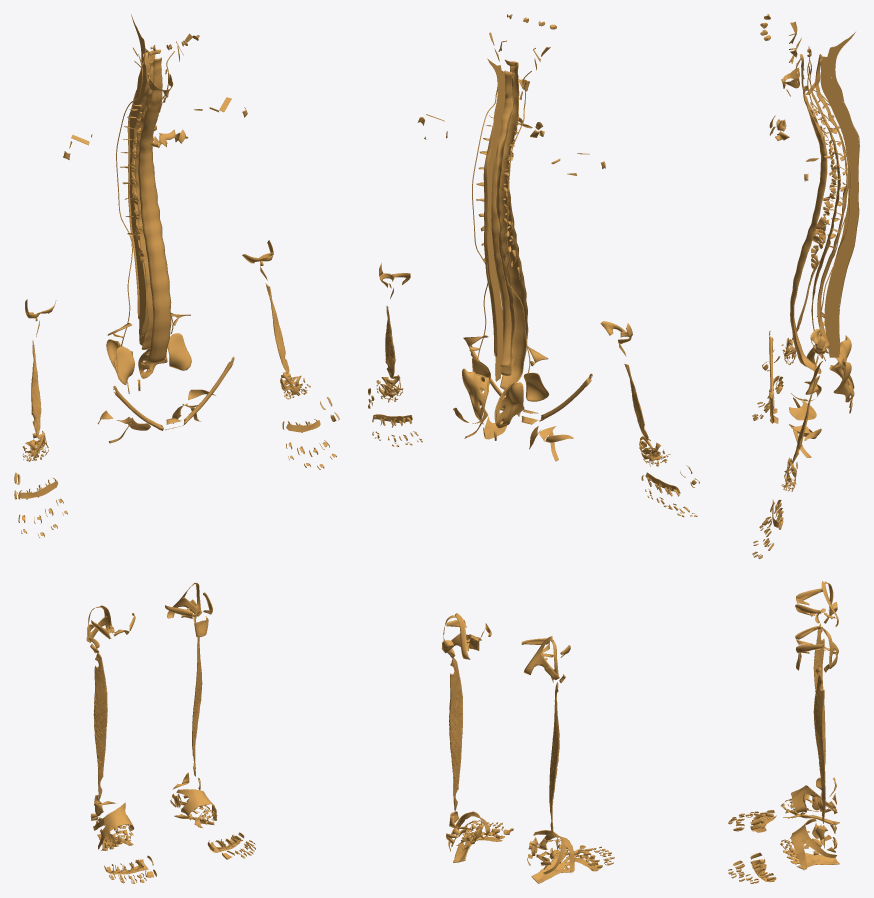
The model's file is ligaments.glb.
3 renders of one model, left to right at view 1: azimuth 30°, elevation 25°; view 2: azimuth 150°, elevation 25°; view 3: azimuth 270°, elevation 25°, orthographic. The views are drawn at different scales.
Parts seen in each view (by area): view 1: Ligament | Anterior longitudinal ligament, Ligament | Interosseous membrane of leg.r, Ligament | Interspinous ligaments, Ligament | Posterior longitudinal ligament, Ligament | Ligamenta flava, Ligament | Interosseous membrane of leg.l, Ligament | Anterior sacro-iliac ligament.l; view 2: Ligament | Anterior longitudinal ligament, Ligament | Ligamenta flava, Ligament | Interspinous ligaments, Ligament | Interosseous membrane of leg.l, Ligament | Posterior longitudinal ligament, Ligament | Supraspinous ligament, Ligament | Posterior sacro-iliac ligament.r, Ligament | Posterior sacro-iliac ligament.l, Ligament | Interosseous membrane of leg.r; view 3: Ligament | Interspinous ligaments, Ligament | Anterior longitudinal ligament, Ligament | Ligamenta flava, Ligament | Interosseous membrane of leg.l, Ligament | Posterior longitudinal ligament, Ligament | Interosseous membrane of leg.r, Ligament | Radiate ligament of head of rib.l, Ligament | Posterior sacro-iliac ligament.l, Ligament | Nuchal ligament, Ligament | Intertransverse ligaments.l, Ligament | Superior fibular retinaculum.l, Ligament | Superior fibular retinaculum.r (+5 smaller).
Part boxes in pixels (x1,y1,x2,y2): Ligament | Anterior longitudinal ligament: (138,57,171,365); Ligament | Interosseous membrane of leg.r: (93,652,107,799); Ligament | Interspinous ligaments: (129,50,148,345); Ligament | Posterior longitudinal ligament: (134,61,153,349); Ligament | Ligamenta flava: (131,52,155,337); Ligament | Interosseous membrane of leg.l: (192,637,202,776); Ligament | Anterior sacro-iliac ligament.l: (167,333,191,370); Ligament | Anterior longitudinal ligament: (499,61,528,389); Ligament | Ligamenta flava: (491,71,512,366); Ligament | Interspinous ligaments: (486,70,505,381); Ligament | Interosseous membrane of leg.l: (449,657,462,811); Ligament | Posterior longitudinal ligament: (496,71,515,375); Ligament | Supraspinous ligament: (483,125,497,356); Ligament | Posterior sacro-iliac ligament.r: (494,381,524,428); Ligament | Posterior sacro-iliac ligament.l: (462,368,488,424); Ligament | Interosseous membrane of leg.r: (549,682,559,835); Ligament | Interspinous ligaments: (820,56,859,357); Ligament | Anterior longitudinal ligament: (790,54,827,373); Ligament | Ligamenta flava: (815,54,848,348); Ligament | Interosseous membrane of leg.l: (813,674,825,823); Ligament | Posterior longitudinal ligament: (810,60,840,358); Ligament | Interosseous membrane of leg.r: (813,623,825,764); Ligament | Radiate ligament of head of rib.l: (810,109,837,268); Ligament | Posterior sacro-iliac ligament.l: (829,361,854,402); Ligament | Nuchal ligament: (827,32,855,102); Ligament | Intertransverse ligaments.l: (807,66,851,361); Ligament | Superior fibular retinaculum.l: (791,818,836,857); Ligament | Superior fibular retinaculum.r: (791,785,836,812).
Bounding box in the file's own units: 0.6603 × 1.59 × 0.2307.
